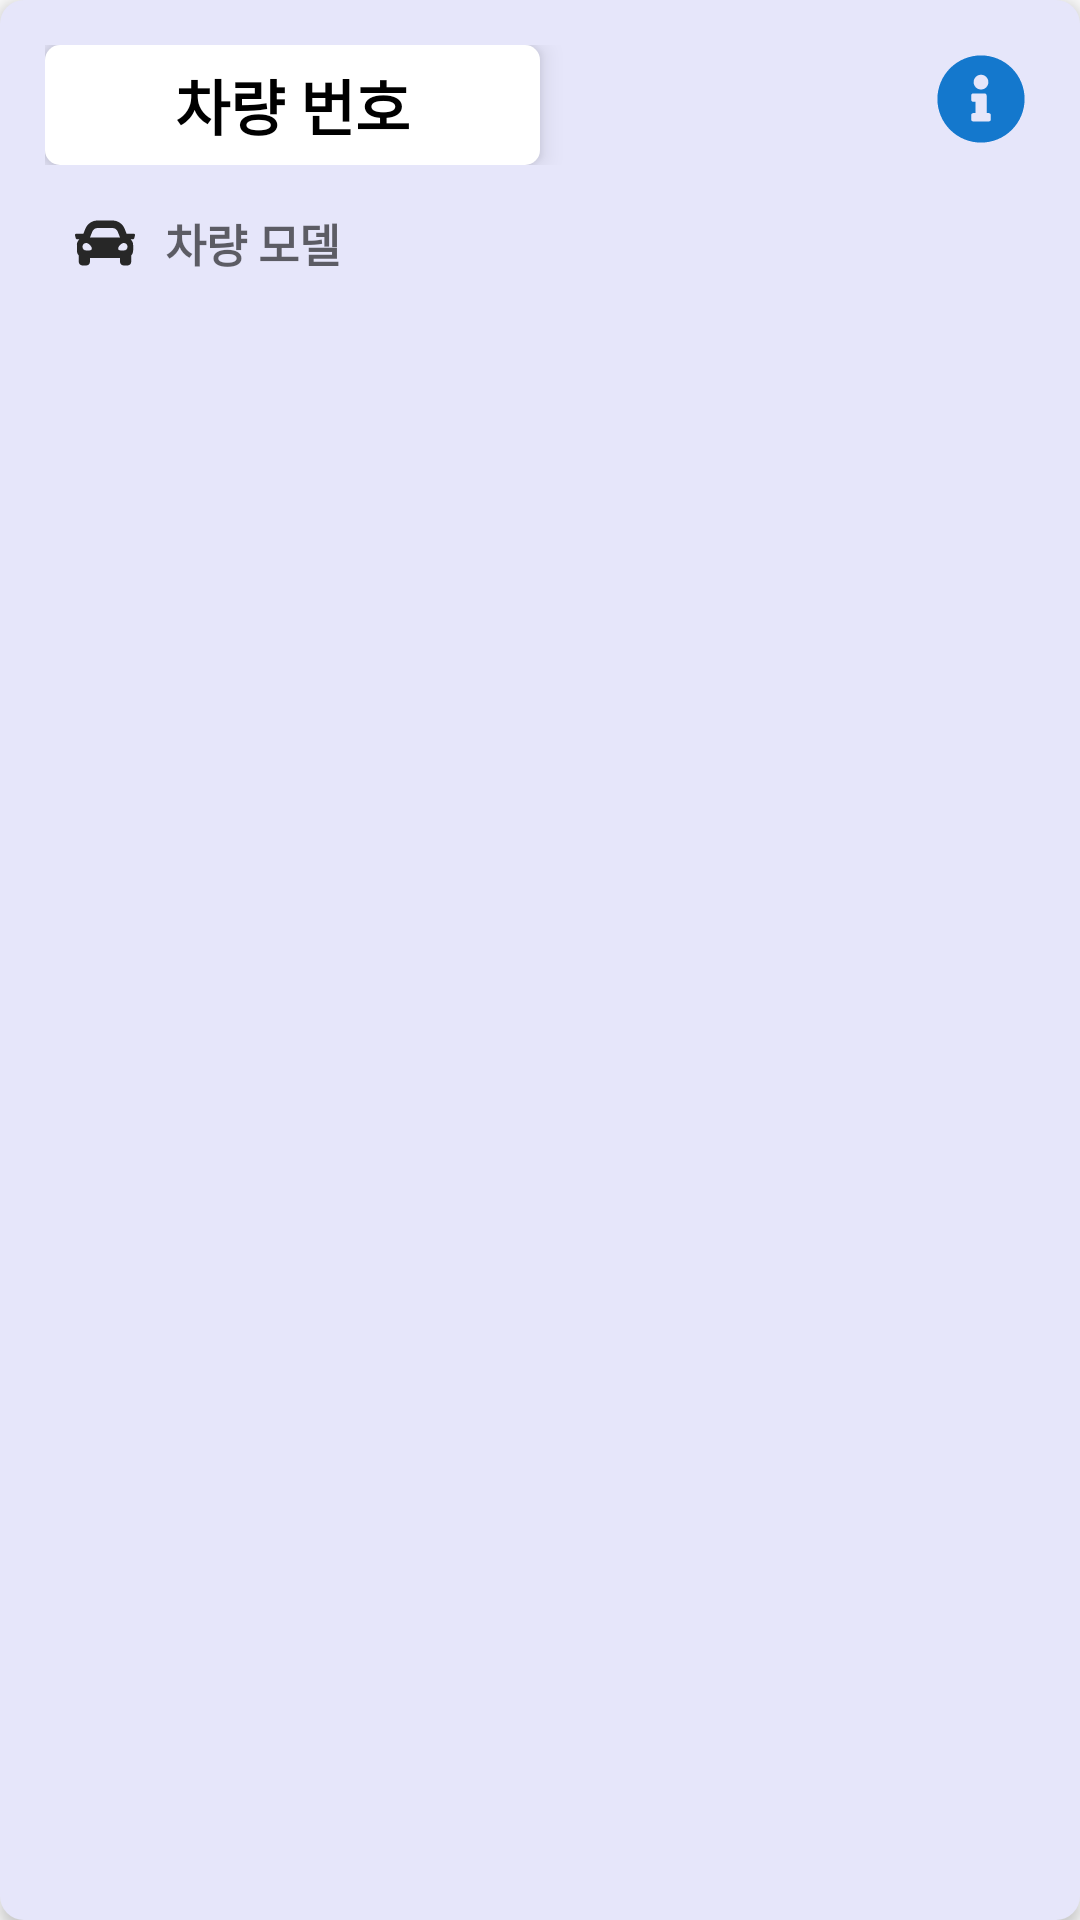

Where icons sit on this 1080 x 1920 app screen, as (x1, y1, x2, y2):
car: (75, 220, 135, 266)
info circle: (937, 55, 1025, 143)
